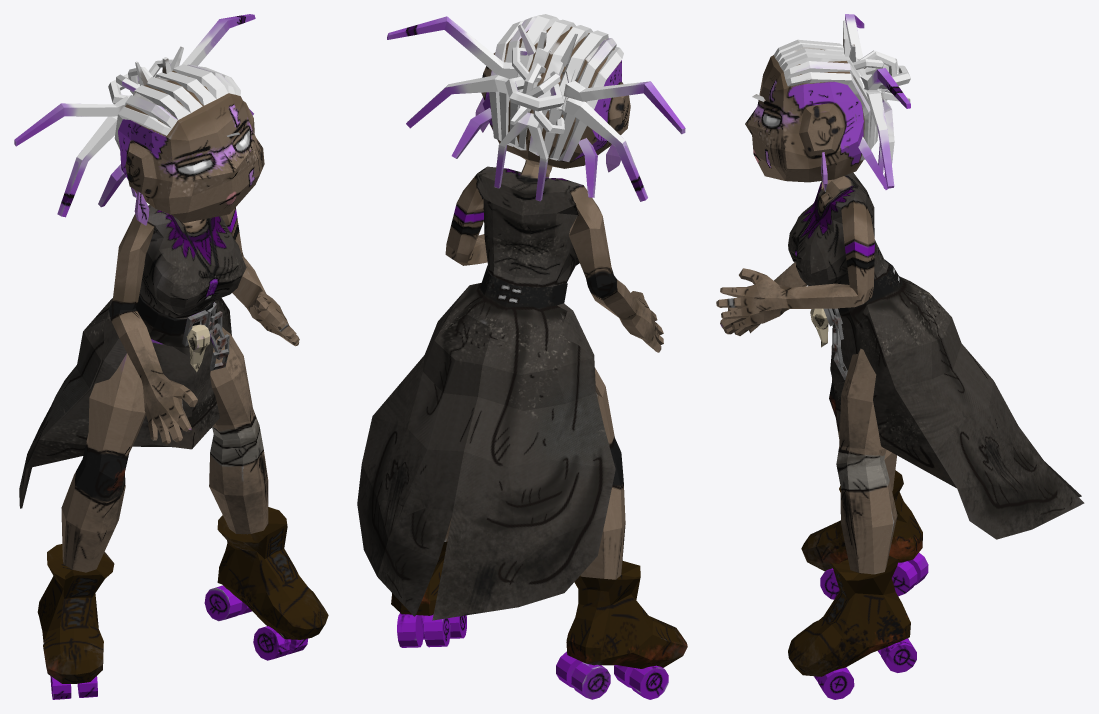
Rendered from bruja_000010.obj.
The picture shows the model from 3 angles, left to right: view 1: azimuth 30°, elevation 25°; view 2: azimuth 150°, elevation 25°; view 3: azimuth 270°, elevation 25°; orthographic projection. The views are drawn at different scales.
Parts seen in each view (by area): view 1: Bruja_Plane.001; view 2: Bruja_Plane.001; view 3: Bruja_Plane.001.
Part boxes in pixels (x1,y1,x2,y2): Bruja_Plane.001: [14, 14, 328, 699]; Bruja_Plane.001: [357, 14, 687, 699]; Bruja_Plane.001: [716, 14, 1084, 699].
Bounding box in the file's own units: 7.91 × 16.54 × 9.08.
